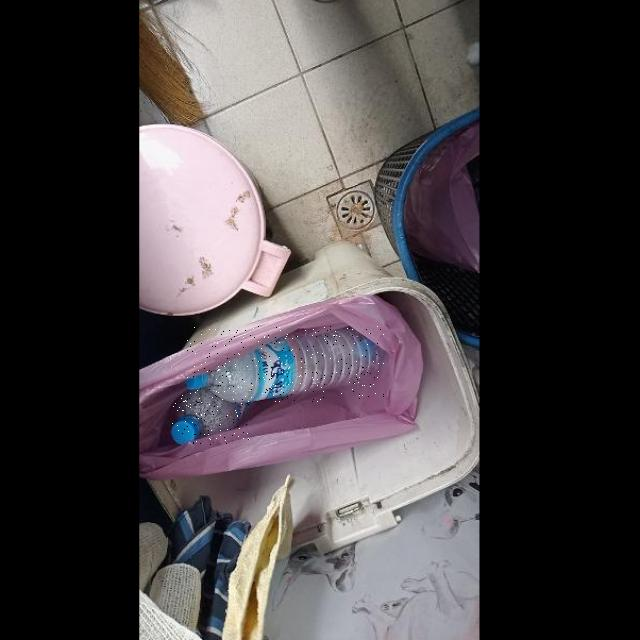plastic: (186, 326, 385, 402), (172, 387, 250, 445)
